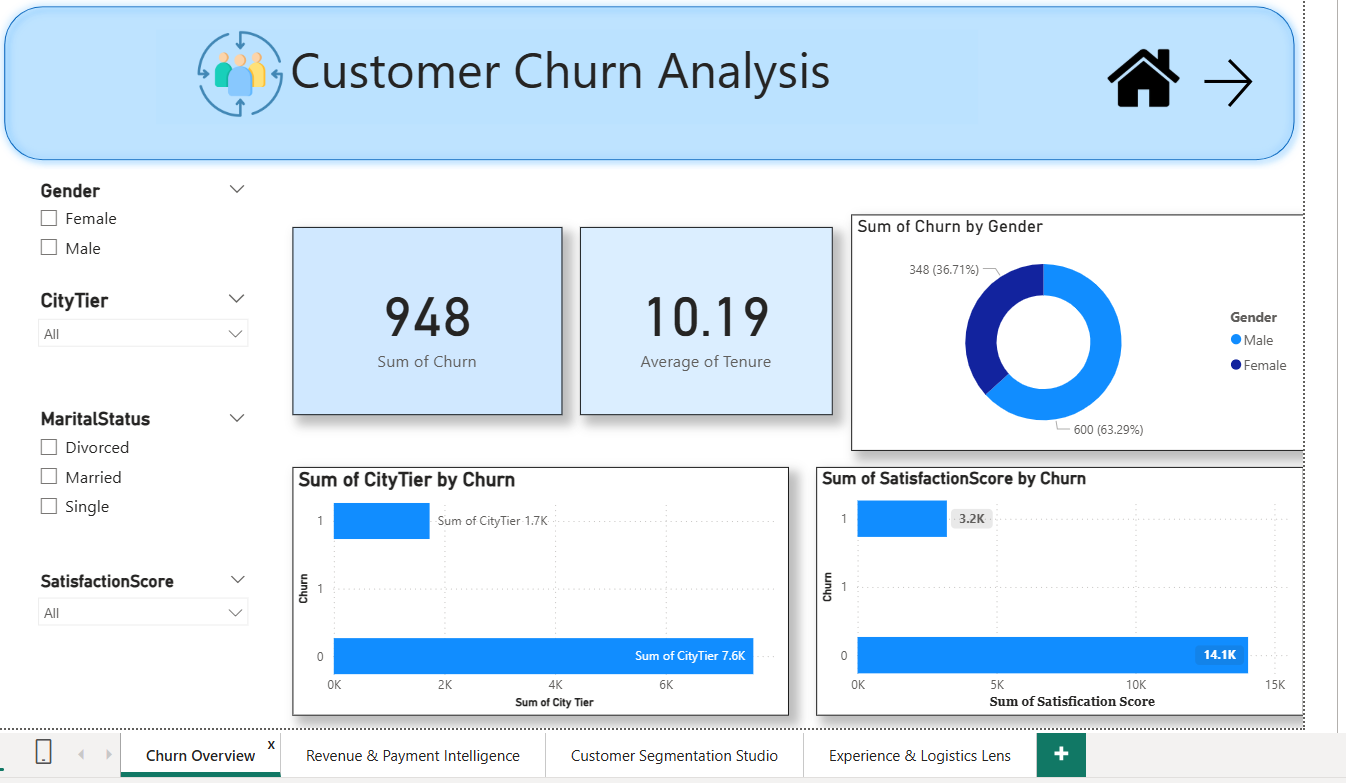

This screenshot's page, from the dashboard's own definition file:
{"tool":"powerbi","page":{"name":"Churn Overview","canvas":[1280,720],"ordinal":0},"visuals":[{"type":"card","fields":{"Values":["Sum(ecommerce_data.Churn)"]},"box":[291.4,230,264.3,184.3],"z":0},{"type":"donutChart","fields":{"Category":["ecommerce_data.Gender"],"Y":["Sum(ecommerce_data.Churn)"]},"box":[837.1,217.1,442.9,231.4],"z":1000},{"type":"barChart","fields":{"Category":["ecommerce_data.Churn"],"Y":["Sum(ecommerce_data.CityTier)"]},"box":[291.4,464.3,485.7,242.9],"z":2000},{"type":"clusteredBarChart","fields":{"Category":["ecommerce_data.Churn"],"Y":["Sum(ecommerce_data.SatisfactionScore)"]},"box":[802.9,464.3,477.1,242.9],"z":3000},{"type":"shape","box":[0,4.9,1280.3,168.8],"z":4000},{"type":"textbox","box":[157.1,37.1,804.3,92.9],"z":5000},{"type":"image","box":[1072.9,44.3,102.9,80],"z":6000},{"type":"actionButton","box":[1175.7,54.3,61.4,70],"z":7000},{"type":"slicer","fields":{"Values":["ecommerce_data.Gender"]},"box":[31.4,178.6,225.7,101.4],"z":8000},{"type":"slicer","fields":{"Values":["ecommerce_data.CityTier"]},"box":[31.4,285.7,225.7,92.9],"z":9000},{"type":"slicer","fields":{"Values":["ecommerce_data.MaritalStatus"]},"box":[31.4,402.9,225.7,121.4],"z":10000},{"type":"card","fields":{"Values":["Avg(ecommerce_data.Tenure)"]},"box":[572.9,230,247.1,184.3],"z":11000},{"type":"slicer","fields":{"Values":["ecommerce_data.SatisfactionScore"]},"box":[31.4,561.4,225.7,88.6],"z":12000},{"type":"image","box":[189.5,30.6,101.5,99],"z":13000}]}

Visuals, with their boxes on the page's 1280x720 design canvas (x1, y1, x2, y2). These are canvas units, not pixel positions in the 1346x783 screenshot, which may show the page scaled, cropped or inside an application window:
card - Sum(ecommerce_data.Churn): [291, 230, 556, 414]
donutChart - ecommerce_data.Gender x Sum(ecommerce_data.Churn): [837, 217, 1280, 448]
barChart - ecommerce_data.Churn x Sum(ecommerce_data.CityTier): [291, 464, 777, 707]
clusteredBarChart - ecommerce_data.Churn x Sum(ecommerce_data.SatisfactionScore): [803, 464, 1280, 707]
shape: [0, 5, 1280, 174]
textbox: [157, 37, 961, 130]
image: [1073, 44, 1176, 124]
actionButton: [1176, 54, 1237, 124]
slicer - ecommerce_data.Gender: [31, 179, 257, 280]
slicer - ecommerce_data.CityTier: [31, 286, 257, 379]
slicer - ecommerce_data.MaritalStatus: [31, 403, 257, 524]
card - Avg(ecommerce_data.Tenure): [573, 230, 820, 414]
slicer - ecommerce_data.SatisfactionScore: [31, 561, 257, 650]
image: [190, 31, 291, 130]
